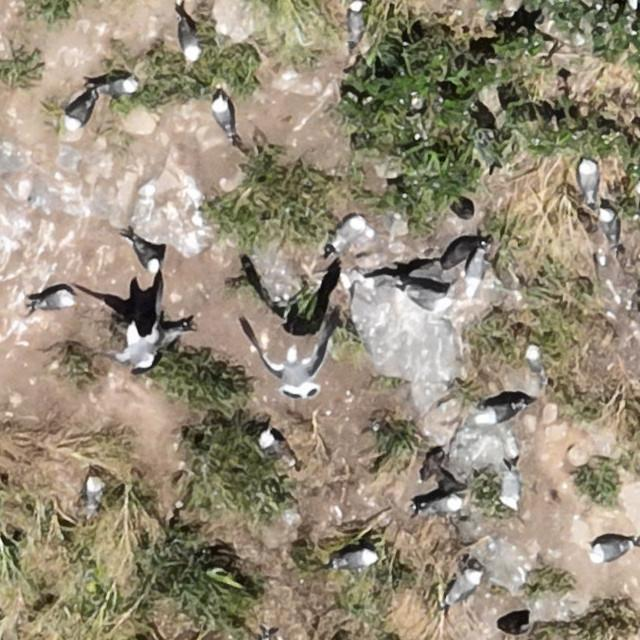F: (254, 336, 342, 396), (123, 322, 179, 366)
umineko: (259, 430, 299, 466), (326, 215, 364, 252), (466, 245, 486, 296), (82, 473, 106, 512), (406, 288, 447, 310), (502, 465, 520, 511), (449, 572, 477, 600), (579, 159, 598, 199), (180, 26, 202, 60), (66, 100, 91, 129), (214, 98, 234, 134), (134, 243, 158, 272), (594, 541, 628, 561), (337, 550, 374, 568), (602, 211, 620, 245), (40, 291, 72, 310), (426, 498, 461, 515), (347, 5, 362, 43), (104, 79, 137, 96), (487, 404, 518, 422), (526, 347, 542, 375)
